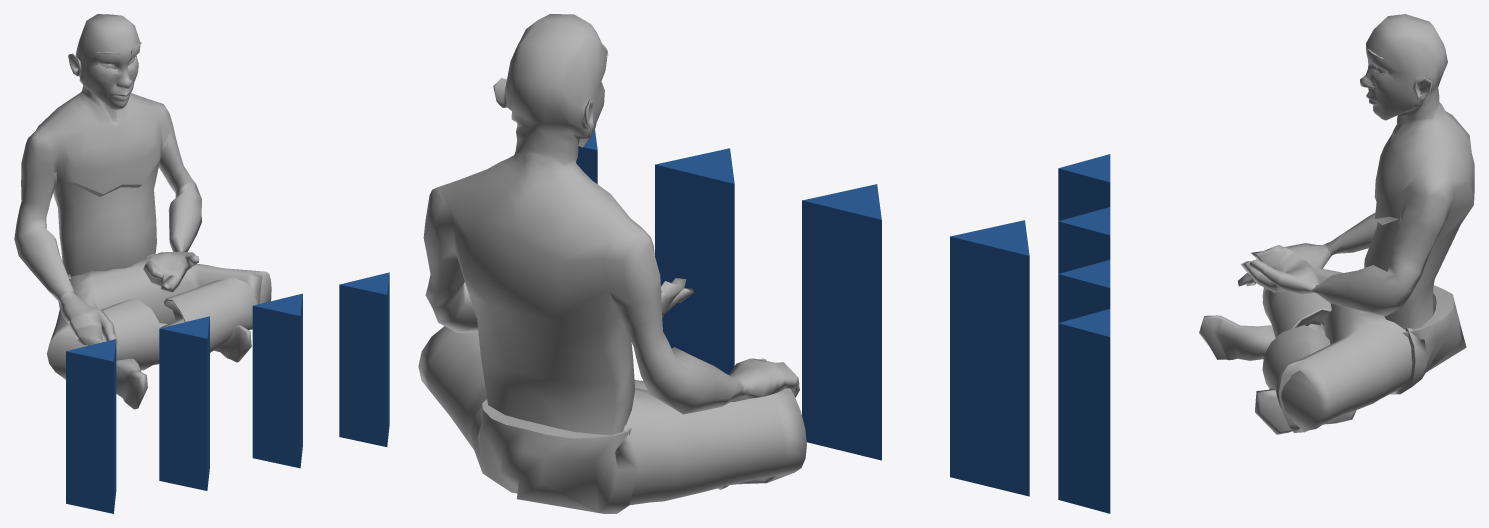
The model's file is TotemStatues.fbx.
3 views of the same model, side by side, from view 1: azimuth 30°, elevation 25°; view 2: azimuth 150°, elevation 25°; view 3: azimuth 270°, elevation 25° (orthographic). The views are drawn at different scales.
Visible parts, largest first — view 1: pasted__Pants1, pasted__pCube11, pasted__pCube12, pasted__pCube13, pasted__pCube14; view 2: pasted__Pants1, pasted__pCube14, pasted__pCube13, pasted__pCube12, pasted__Belt, pasted__pCube11; view 3: pasted__Pants1, pasted__pCube11, pasted__Belt, pasted__pCube14, pasted__pCube13, pasted__pCube12.
Part boxes in pixels (x1,y1,x2,y2): pasted__Pants1: (14, 14, 271, 409); pasted__pCube11: (339, 272, 389, 446); pasted__pCube12: (252, 293, 302, 468); pasted__pCube13: (159, 316, 209, 490); pasted__pCube14: (66, 339, 116, 513); pasted__Pants1: (418, 14, 806, 505); pasted__pCube14: (950, 220, 1029, 496); pasted__pCube13: (802, 184, 881, 460); pasted__pCube12: (655, 148, 734, 374); pasted__Belt: (470, 399, 637, 513); pasted__pCube11: (576, 129, 597, 183); pasted__Pants1: (1199, 14, 1474, 434); pasted__pCube11: (1058, 309, 1110, 513); pasted__Belt: (1390, 285, 1466, 394); pasted__pCube14: (1058, 154, 1110, 220); pasted__pCube13: (1058, 207, 1110, 273); pasted__pCube12: (1058, 260, 1110, 322).
Size of the model in its own units: 6.42 by 6.67 by 6.16.
